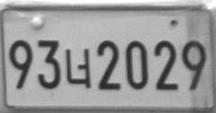0: (124, 39, 149, 90)
2: (153, 39, 179, 91), (96, 39, 121, 90)
3: (36, 39, 61, 89)
9: (180, 39, 207, 90), (8, 38, 33, 90)
너: (65, 48, 91, 88)
